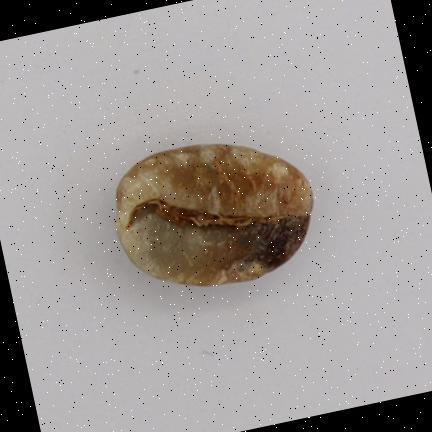partial-black: (116, 145, 312, 285)
